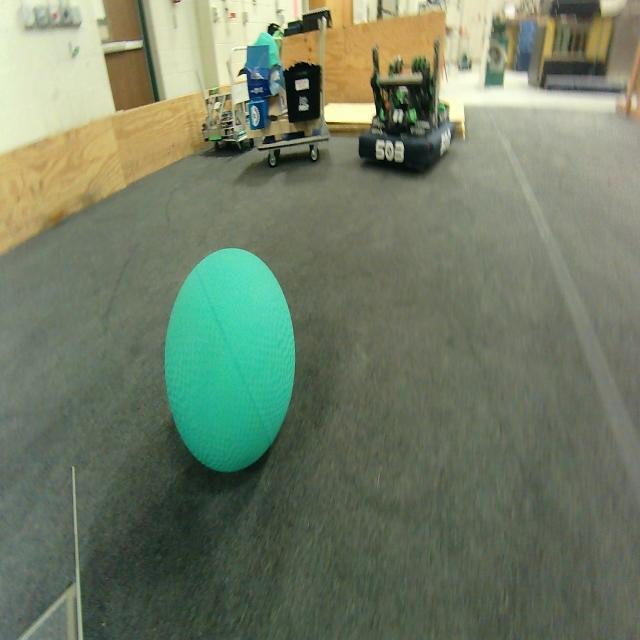algae: (159, 238, 303, 484)
